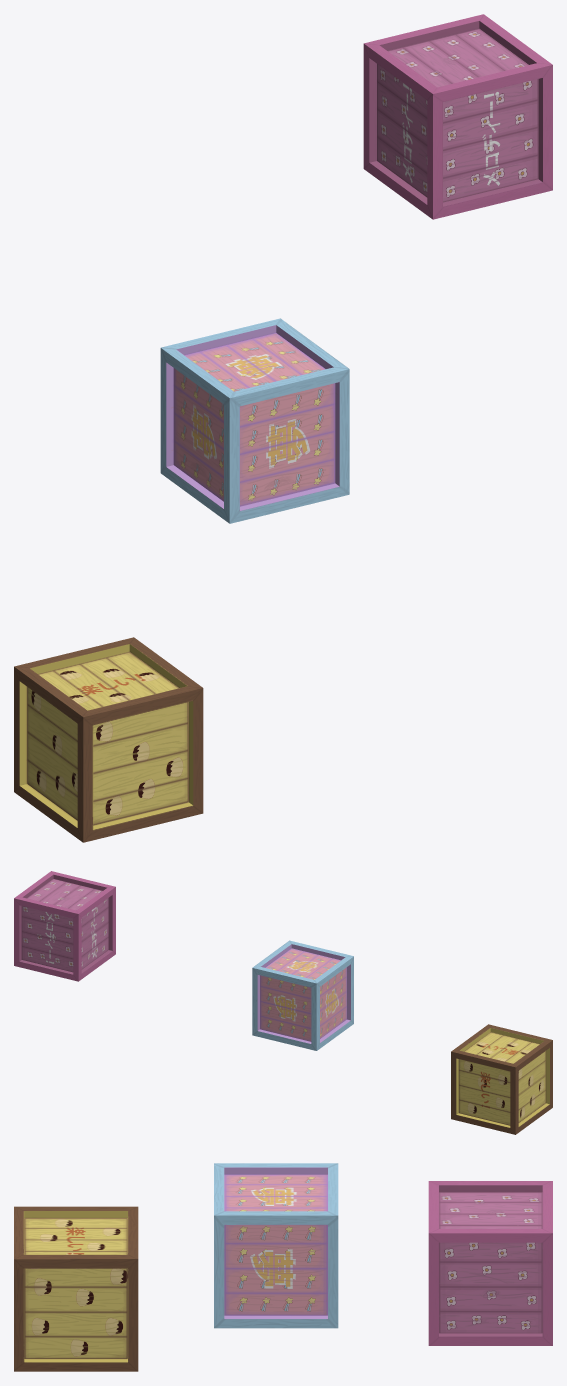
Rendered from crates.glb.
3 views of the same model, one above another, from view 1: azimuth 30°, elevation 25°; view 2: azimuth 150°, elevation 25°; view 3: azimuth 270°, elevation 25° (orthographic). The views are drawn at different scales.
Parts seen in each view (by area): view 1: pCube14_lambert1_0, pasted__pCube14_lambert2_0, pasted__pCube14_lambert3_0; view 2: pCube14_lambert1_0, pasted__pCube14_lambert2_0, pasted__pCube14_lambert3_0; view 3: pasted__pCube14_lambert2_0, pasted__pCube14_lambert3_0, pCube14_lambert1_0.
Boxes of the visible parts, bbox=[...] form: pCube14_lambert1_0: bbox=[363, 14, 552, 219]; pasted__pCube14_lambert2_0: bbox=[14, 637, 203, 842]; pasted__pCube14_lambert3_0: bbox=[160, 318, 349, 523]; pCube14_lambert1_0: bbox=[14, 871, 115, 981]; pasted__pCube14_lambert2_0: bbox=[451, 1024, 552, 1134]; pasted__pCube14_lambert3_0: bbox=[252, 940, 353, 1050]; pasted__pCube14_lambert2_0: bbox=[14, 1206, 138, 1371]; pasted__pCube14_lambert3_0: bbox=[214, 1163, 338, 1328]; pCube14_lambert1_0: bbox=[428, 1181, 552, 1345].
Size of the model in its own units: 140 by 83.54 by 104.
3 materials, 3 textured.
